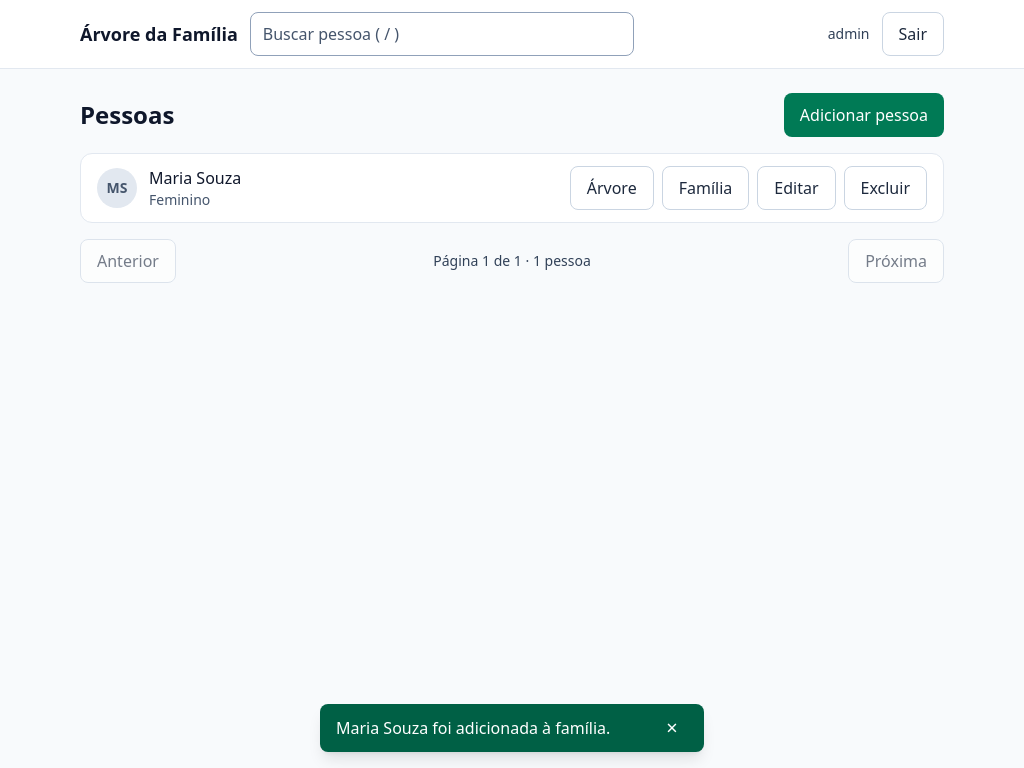
pessoas › excluir mostra o impacto e so exclui apos confirmar
The image size is (1024, 768).
Click the button with aria-label "Excluir Maria Souza": coordinates (885, 188) x1=844 y1=166 x2=927 y2=210
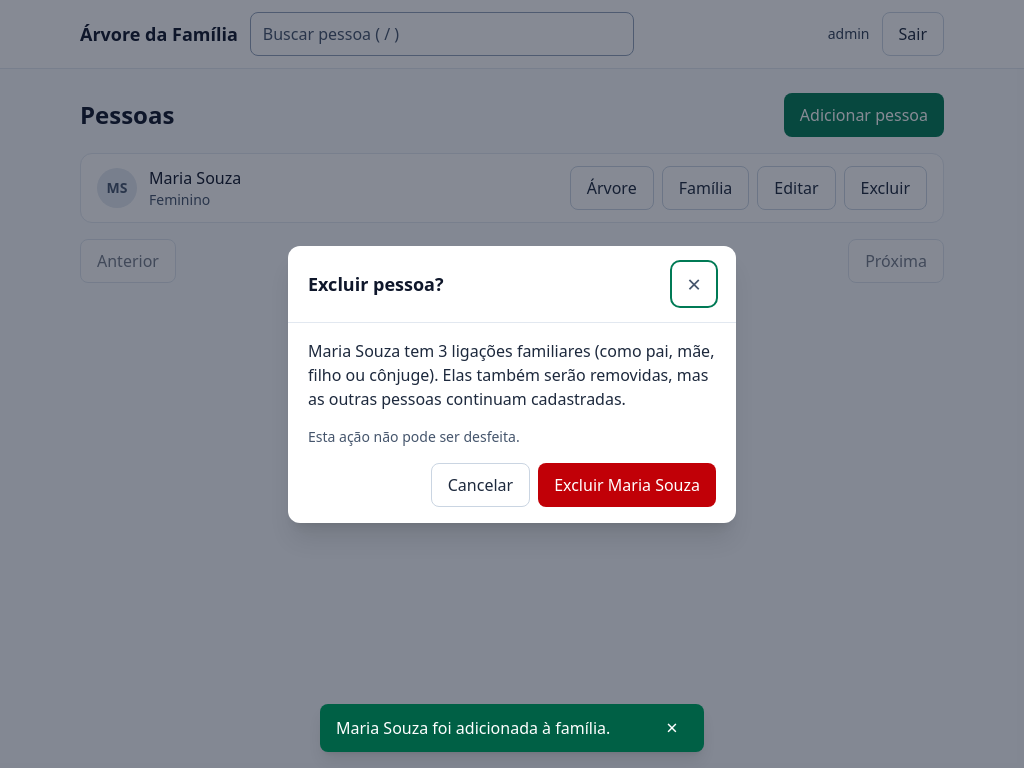
Expected: the text "3 ligações familiares" is shown, x1=308 y1=340 x2=714 y2=410
Click the button "Excluir Maria Souza": coordinates (627, 484) x1=538 y1=462 x2=716 y2=506
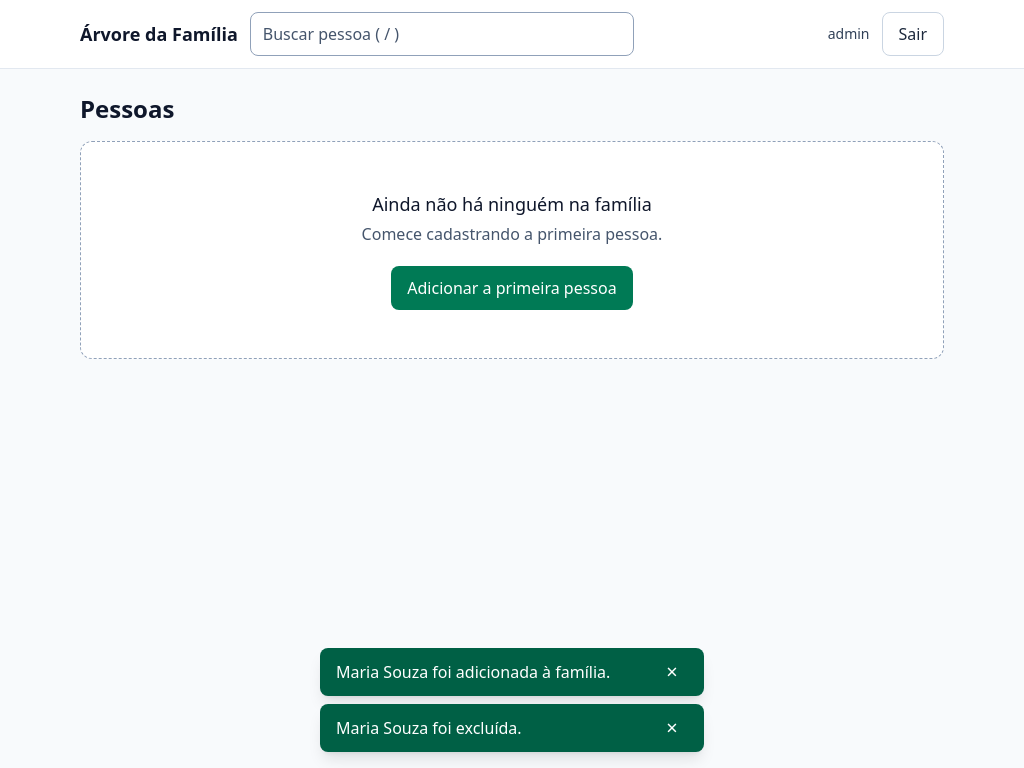
Expected: the text "Maria Souza foi excluída." is shown, x1=336 y1=717 x2=522 y2=739
